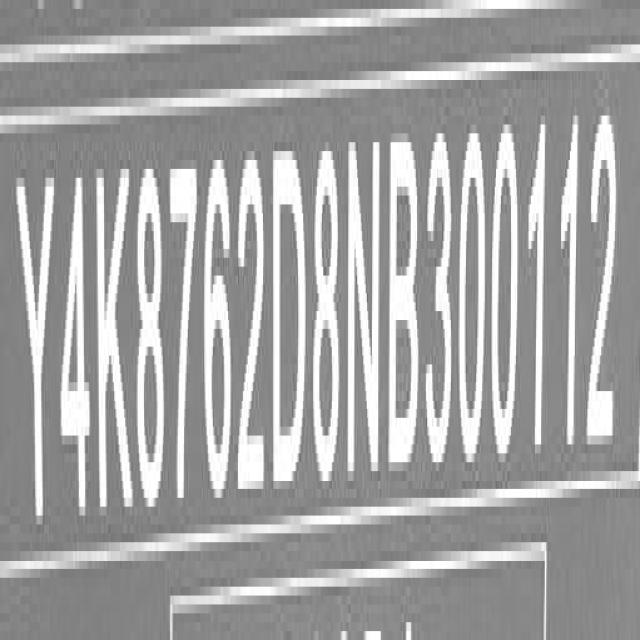0: (492, 116, 522, 470), (459, 124, 488, 469)
1: (526, 112, 549, 471), (558, 105, 580, 462)
2: (590, 111, 622, 461), (235, 147, 266, 507)
3: (427, 128, 454, 471)
4: (59, 162, 92, 533)
6: (201, 148, 236, 514)
7: (171, 152, 201, 512)
8: (137, 158, 166, 518), (312, 142, 341, 486)
B: (388, 133, 419, 481)
D: (272, 142, 307, 500)
K: (97, 158, 134, 527)
N: (346, 119, 381, 478)
Y: (17, 167, 55, 542)
